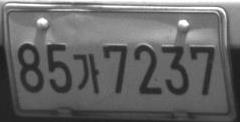2: (133, 43, 161, 94)
3: (162, 45, 189, 95)
5: (46, 43, 72, 94)
7: (101, 44, 128, 94), (189, 45, 215, 96)
8: (16, 42, 44, 93)
가: (73, 52, 100, 94)
